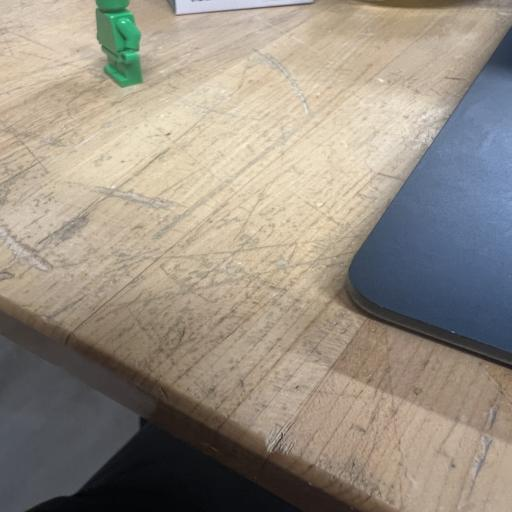green-lego-minifigure-detector: (96, 0, 142, 87)
